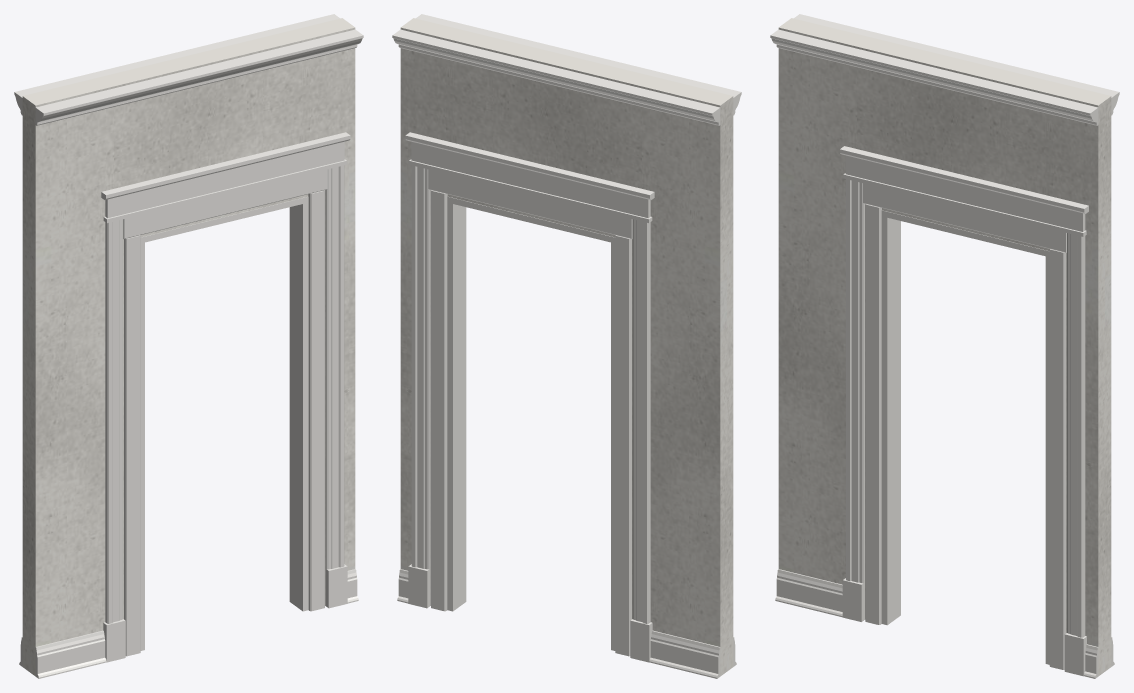
Rendered from interior_wall_end_doorway.glb.
3 views of the same model, side by side, from view 1: azimuth 30°, elevation 25°; view 2: azimuth 150°, elevation 25°; view 3: azimuth 330°, elevation 25° (orthographic).
Visible parts, largest first — view 1: interior_wall_end_doorway_plaster, molduras, interior_wall_end_doorway_frame; view 2: interior_wall_end_doorway_plaster, molduras, interior_wall_end_doorway_frame; view 3: interior_wall_end_doorway_plaster, molduras, interior_wall_end_doorway_frame.
Boxes of the visible parts, x1,y1,x2,y2 form: interior_wall_end_doorway_plaster: (22, 18, 355, 676); molduras: (14, 14, 363, 678); interior_wall_end_doorway_frame: (123, 169, 327, 656); interior_wall_end_doorway_plaster: (400, 18, 733, 676); molduras: (392, 14, 741, 678); interior_wall_end_doorway_frame: (428, 169, 632, 656); interior_wall_end_doorway_plaster: (778, 18, 1111, 676); molduras: (770, 14, 1119, 678); interior_wall_end_doorway_frame: (863, 183, 1066, 669).
Size of the model in its own units: 1.7 by 2.9 by 0.27.
3 materials, 1 textured.
